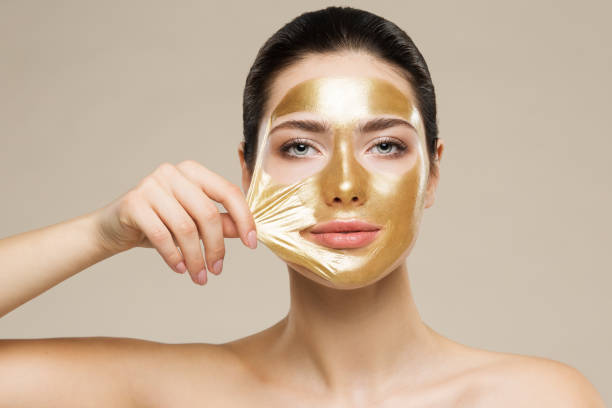without mask: (236, 48, 439, 293)
